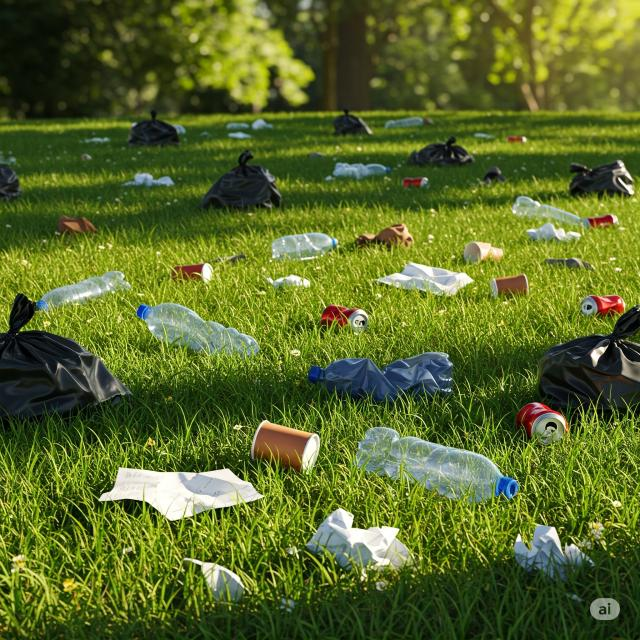aluminum: (520, 402, 569, 448), (317, 304, 369, 338), (580, 289, 625, 324)
paper: (303, 514, 409, 576), (514, 527, 594, 590), (250, 423, 320, 473), (494, 273, 528, 298)
plastic: (353, 429, 520, 508), (135, 303, 261, 367), (36, 267, 132, 312), (268, 230, 340, 262)
